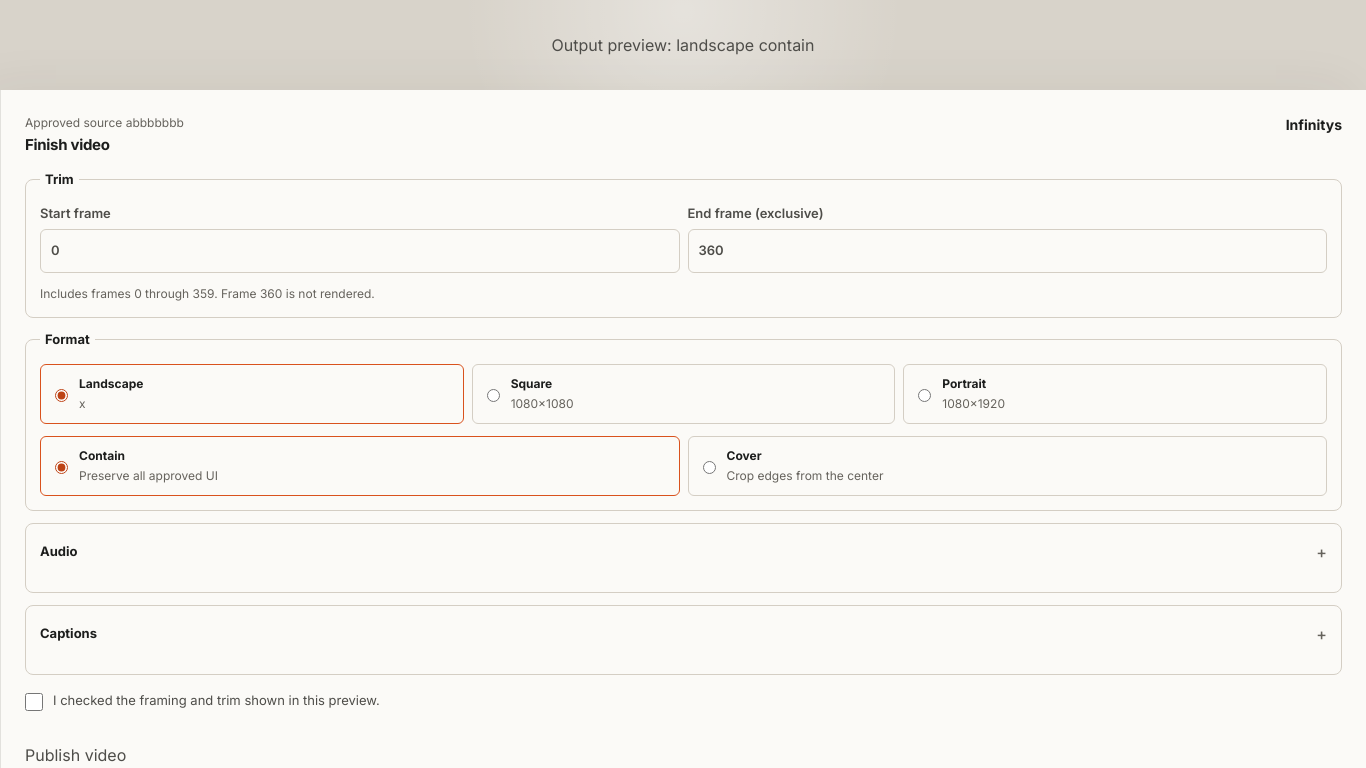
Scenario: FinishVideoPanel › disables generated captions without validated audio
What coordinates should you click on to do the following:
click the heading "Captions"
I would click on:
 (68, 633)
Its box is [40,625,97,641].
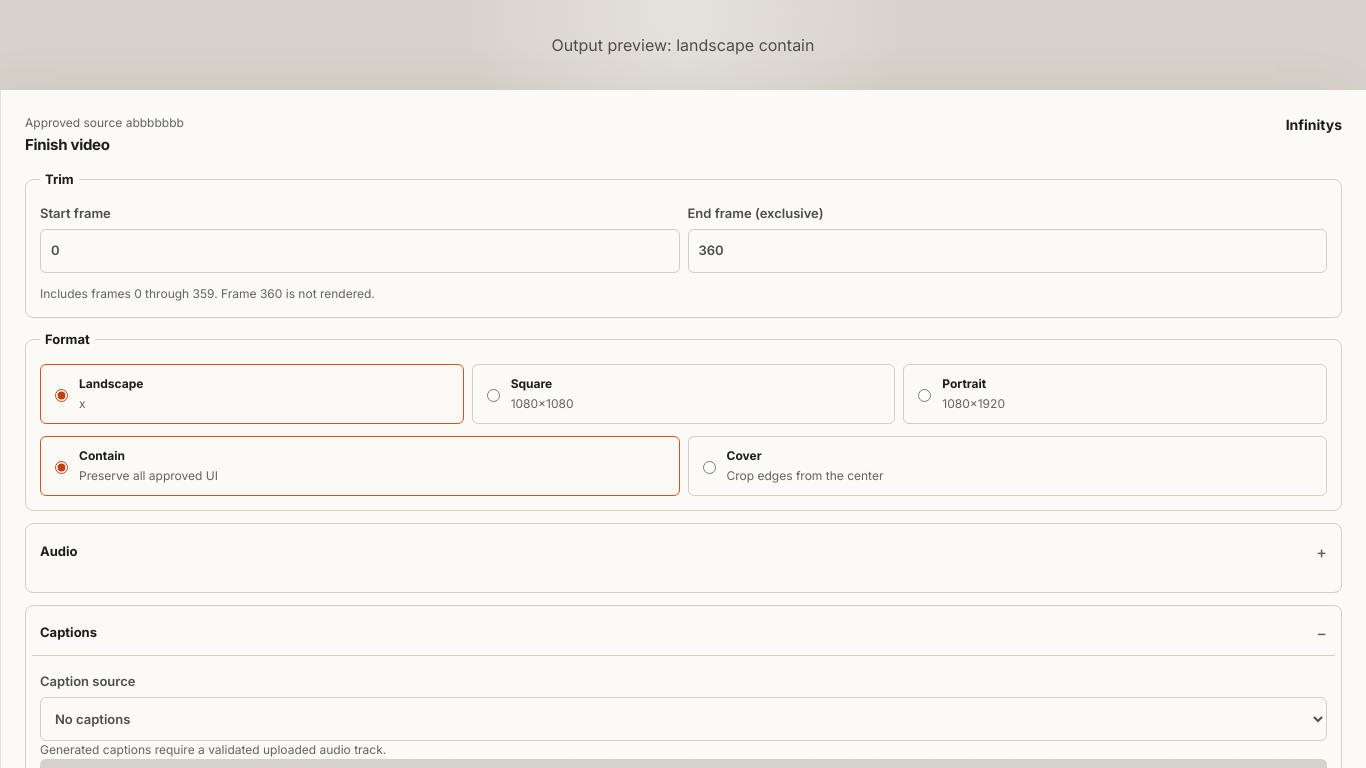
expect the text "Generated captions require a validated uploaded audio track." is shown: met, box [40,742,386,757]
